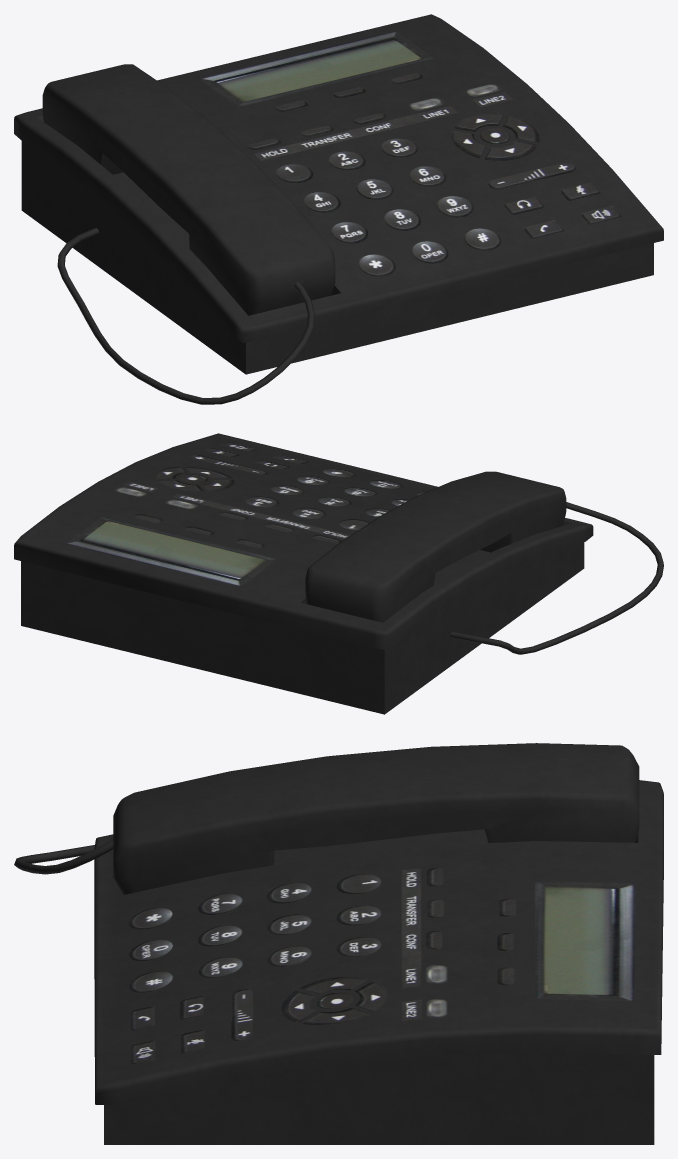
File: Phone02.FBX
The picture shows the model from 3 angles, top to bottom: view 1: azimuth 30°, elevation 25°; view 2: azimuth 150°, elevation 25°; view 3: azimuth 270°, elevation 25°; orthographic projection. The views are drawn at different scales.
Parts seen in each view (by area): view 1: Phone02; view 2: Phone02; view 3: Phone02.
Boxes of the visible parts, x1,y1,x2,y2 form: Phone02: (14, 14, 663, 404); Phone02: (14, 433, 663, 714); Phone02: (14, 743, 663, 1144).
Size of the model in its own units: 368 by 94.52 by 334.
